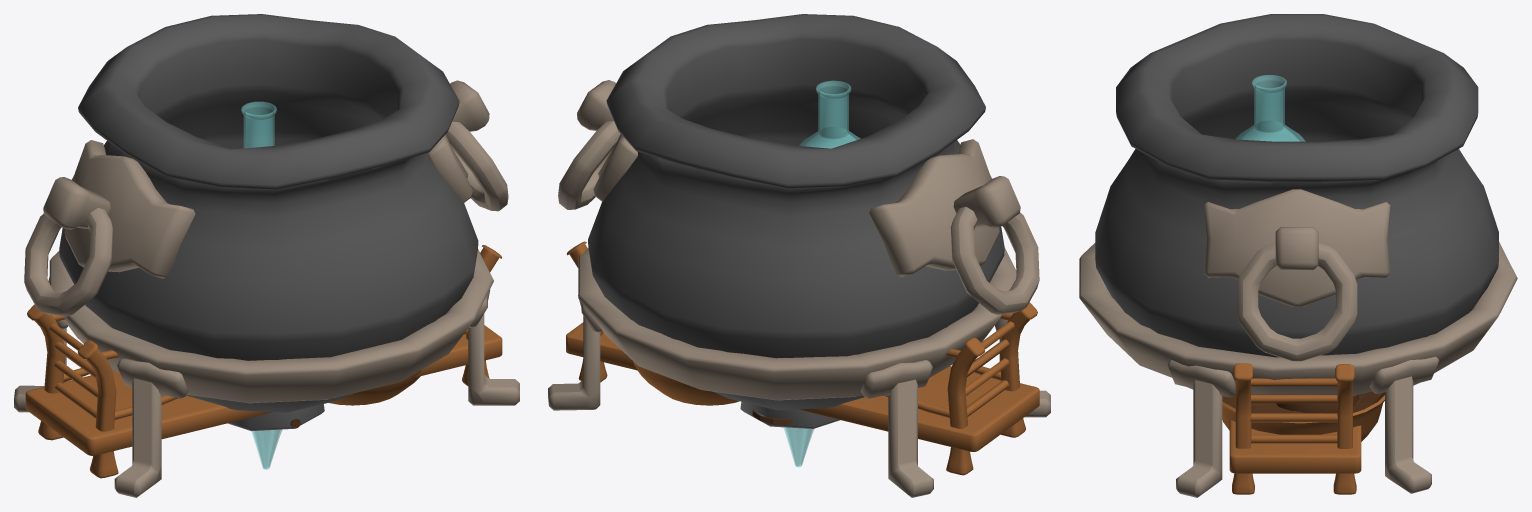
File: AlchemyObjects.fbx
The picture shows the model from 3 angles, left to right: view 1: azimuth 30°, elevation 25°; view 2: azimuth 150°, elevation 25°; view 3: azimuth 270°, elevation 25°; orthographic projection.
Visible parts, largest first — view 1: Cauldron, AlchemyFlaskTable, AlchemyTreeFlask, Mortar, AlchemyTree, AlchemyFlask1; view 2: Cauldron, AlchemyFlaskTable, AlchemyTreeFlask, AlchemyTree, Mortar, AlchemyFlask1; view 3: Cauldron, AlchemyFlaskTable, AlchemyTree, AlchemyTreeFlask.
Part boxes in pixels (<box>): Cauldron: <box>14,14,519,497</box>; AlchemyFlaskTable: <box>25,245,502,478</box>; AlchemyTreeFlask: <box>241,101,276,148</box>; Mortar: <box>228,404,324,431</box>; AlchemyTree: <box>328,370,421,405</box>; AlchemyFlask1: <box>251,429,282,469</box>; Cauldron: <box>548,14,1050,497</box>; AlchemyFlaskTable: <box>566,241,1039,475</box>; AlchemyTreeFlask: <box>799,80,860,148</box>; AlchemyTree: <box>633,361,739,405</box>; Mortar: <box>740,401,840,428</box>; AlchemyFlask1: <box>783,427,813,467</box>; Cauldron: <box>1079,14,1517,497</box>; AlchemyFlaskTable: <box>1229,363,1361,494</box>; AlchemyTree: <box>1222,391,1384,441</box>; AlchemyTreeFlask: <box>1236,75,1305,141</box>.
Size of the model in its own units: 0.8571 by 0.6927 by 0.7182.
